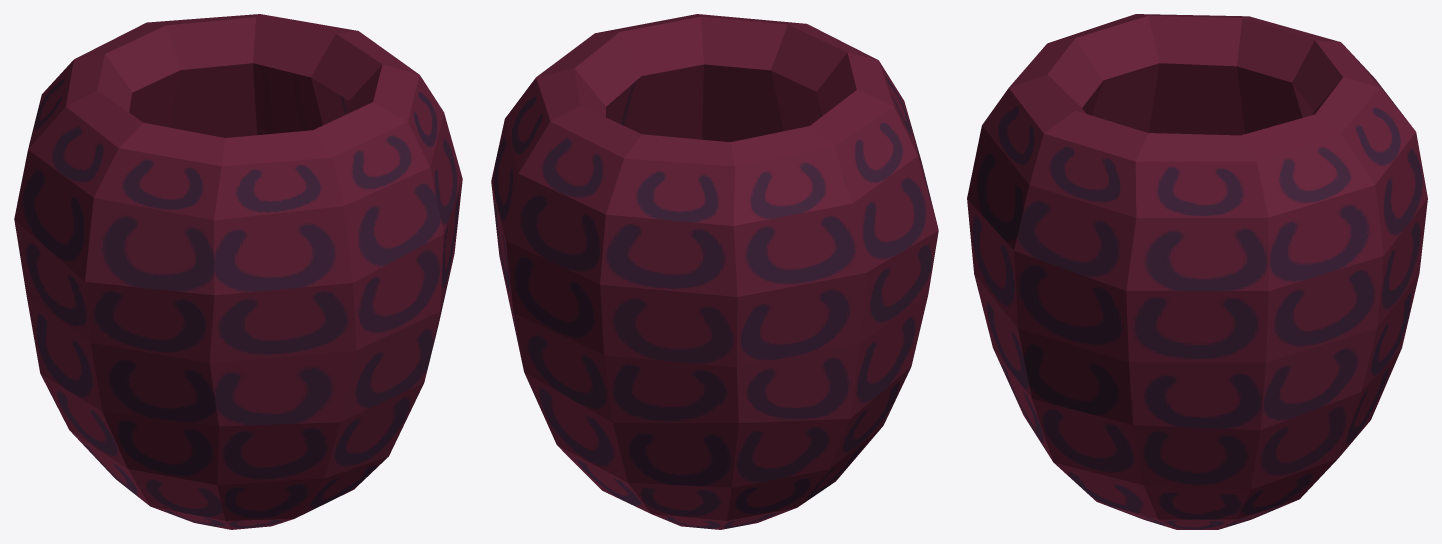
Rendered from Berry.fbx.
3 renders of one model, left to right at view 1: azimuth 30°, elevation 25°; view 2: azimuth 150°, elevation 25°; view 3: azimuth 270°, elevation 25°, orthographic.
Visible parts, largest first — view 1: Sphere; view 2: Sphere; view 3: Sphere.
Boxes of the visible parts, left/top/right/bottom form: Sphere: left=14, top=14, right=462, bottom=529; Sphere: left=491, top=14, right=938, bottom=529; Sphere: left=967, top=14, right=1427, bottom=529.
Bounding box in the file's own units: 204 × 226 × 214.
